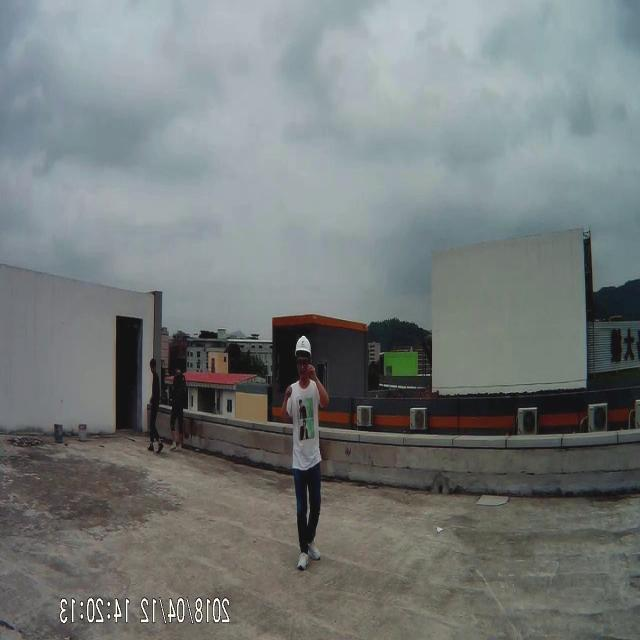face_nomask: (296, 350, 310, 388)
hand_noglove: (282, 385, 294, 405), (308, 364, 318, 382)
head_helmet: (293, 336, 311, 357)
head_nohelmet: (148, 359, 158, 378), (173, 354, 181, 371)
person: (288, 336, 322, 576), (169, 346, 187, 447), (144, 356, 160, 454)
shoes: (306, 537, 323, 565), (295, 547, 310, 573)
